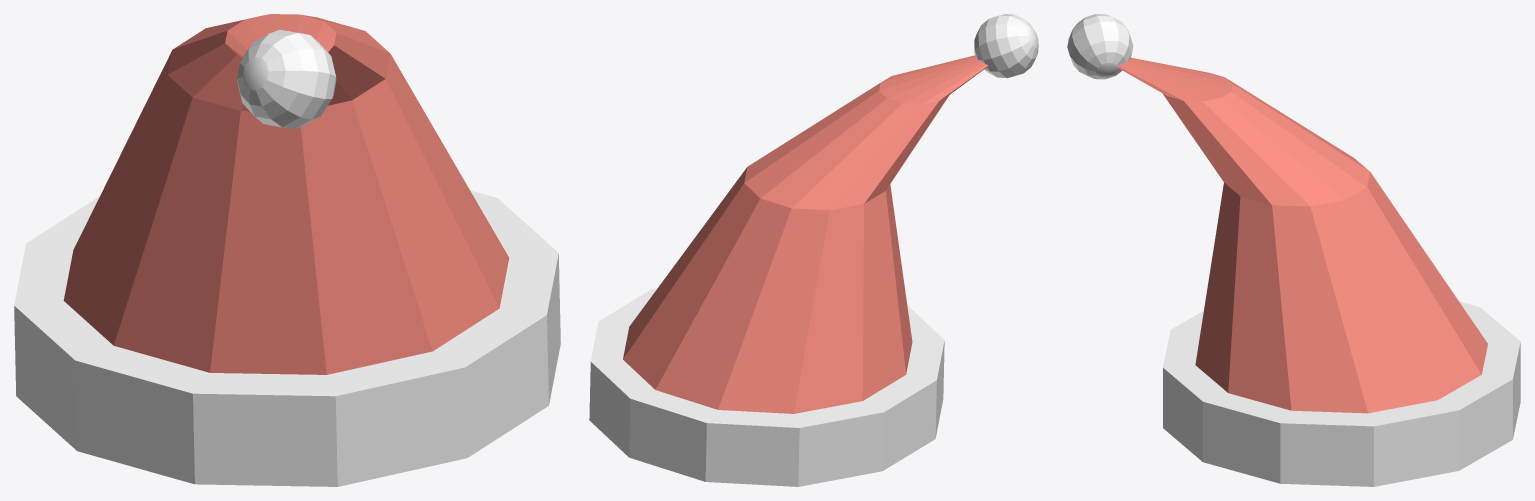
The model's file is hat-santa.glb.
3 renders of one model, left to right at view 1: azimuth 30°, elevation 25°; view 2: azimuth 150°, elevation 25°; view 3: azimuth 270°, elevation 25°, orthographic. The views are drawn at different scales.
Visible parts, largest first — view 1: group1929500622, group1488728730, group907954696; view 2: group1929500622, group1488728730, group907954696; view 3: group1929500622, group1488728730, group907954696.
Part boxes in pixels (x1,y1,x2,y2): group1929500622: [63, 14, 509, 374]; group1488728730: [14, 190, 560, 486]; group907954696: [237, 29, 336, 129]; group1929500622: [623, 55, 988, 413]; group1488728730: [589, 288, 944, 486]; group907954696: [974, 14, 1038, 78]; group1929500622: [1117, 57, 1487, 413]; group1488728730: [1163, 301, 1520, 486]; group907954696: [1067, 14, 1133, 79].
Size of the model in its own units: 0.1087 by 0.1147 by 0.1372.
